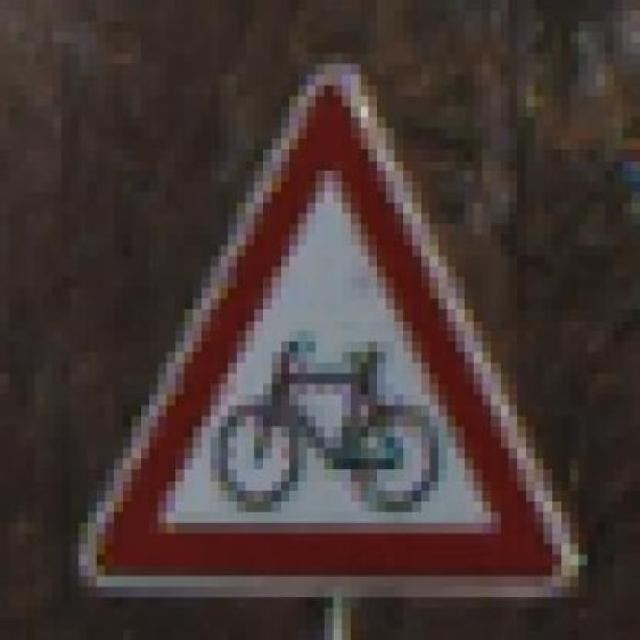CYCLE ROUTE AHEAD WARNING: (62, 31, 588, 598)
